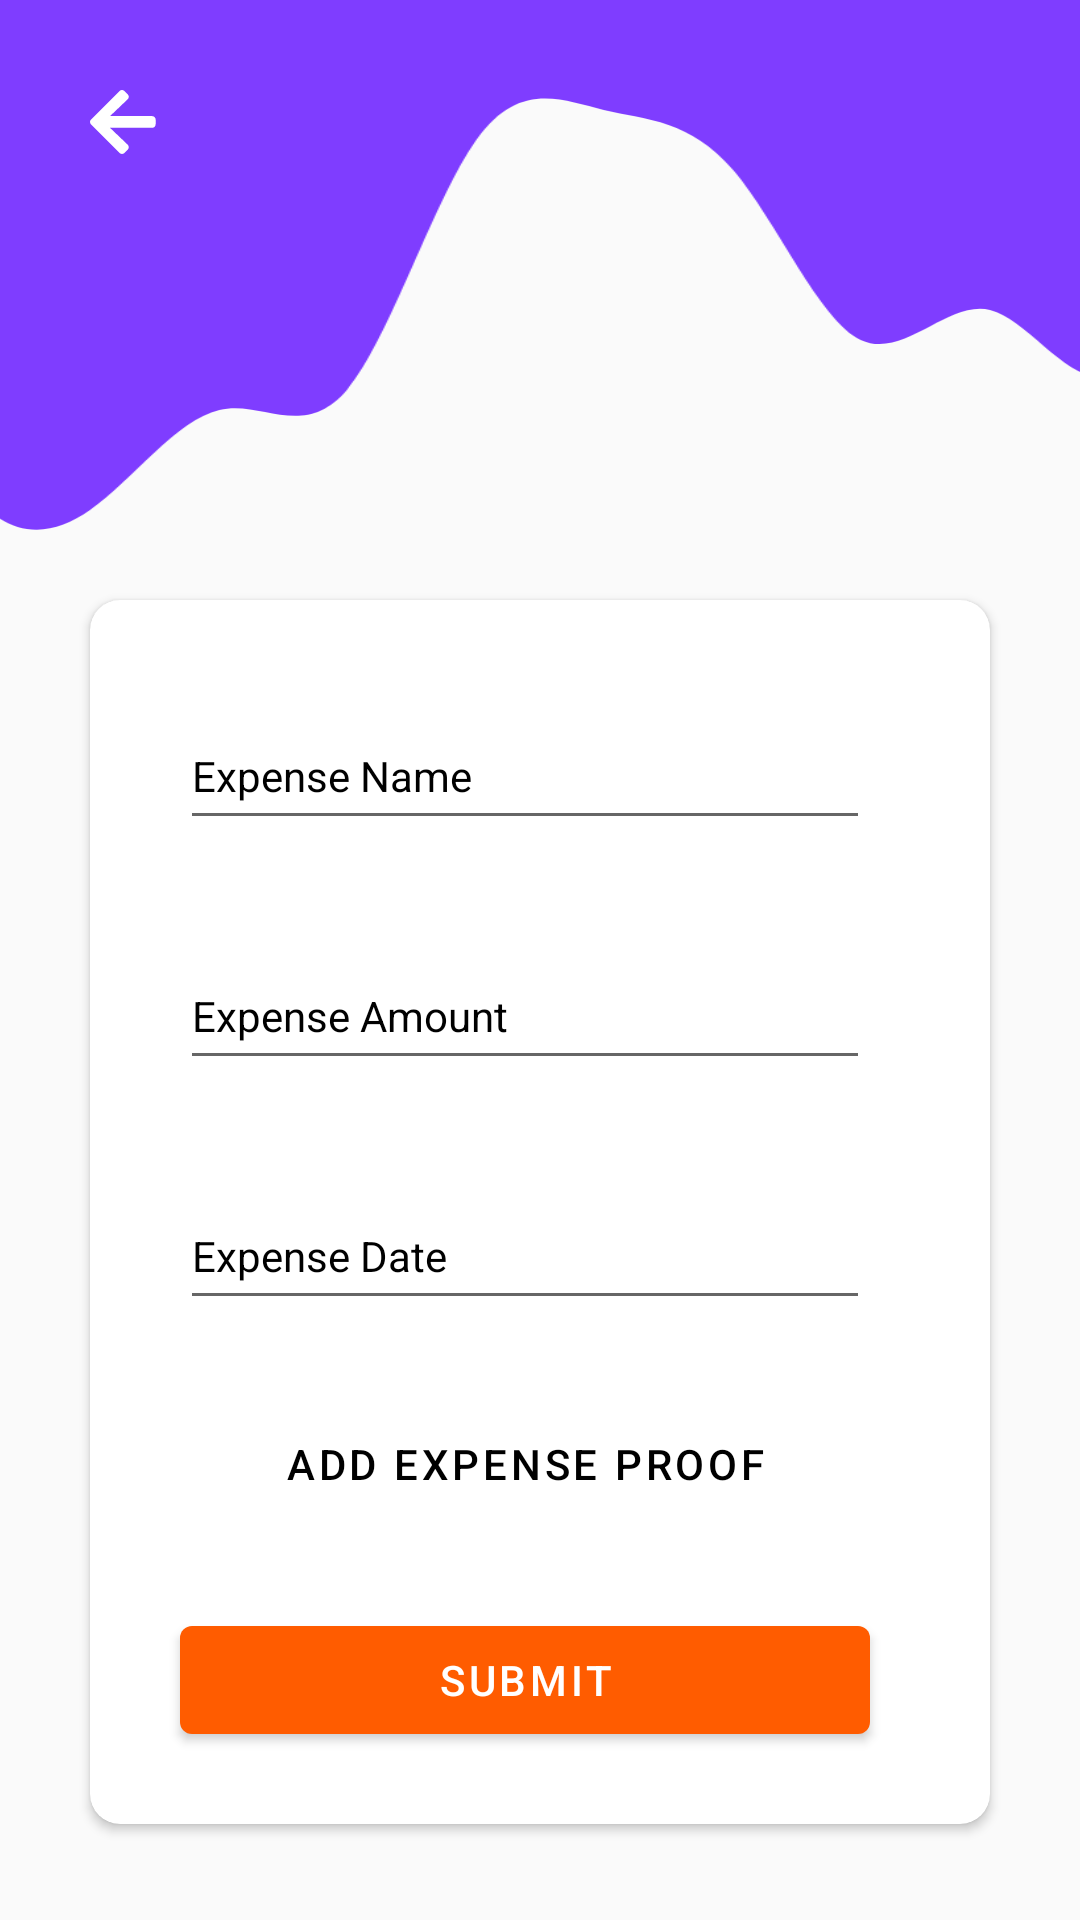

Screen size 1080 x 1920. Icon name, then its box in pixels as (x1, y1, x2, y2):
back arrow: (90, 90, 156, 154)
